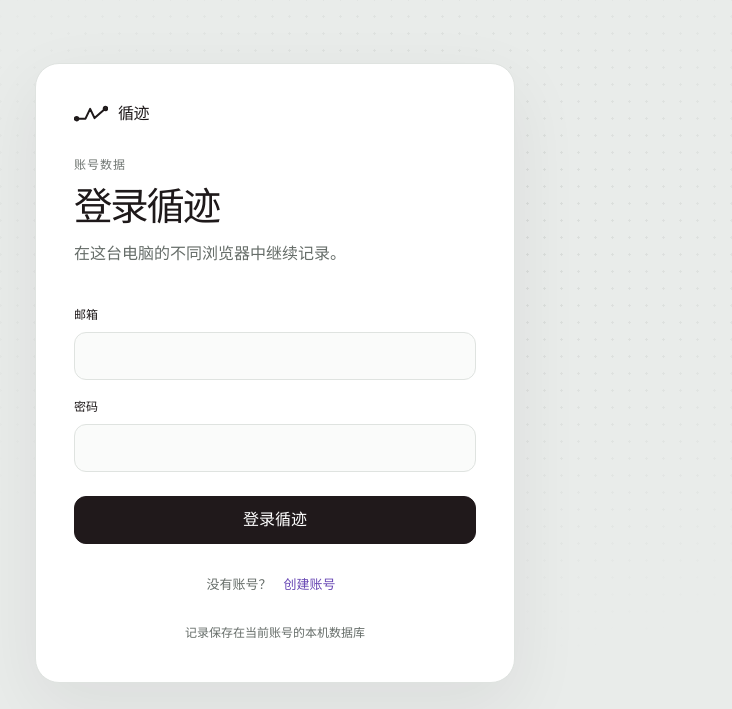
Test: 账号与数据 gate › 提交期间显示具体 busy 文案并阻止重复认证
Type "me@example.com" into the field labelled "邮箱" at (275, 356), box [74,332,476,380]
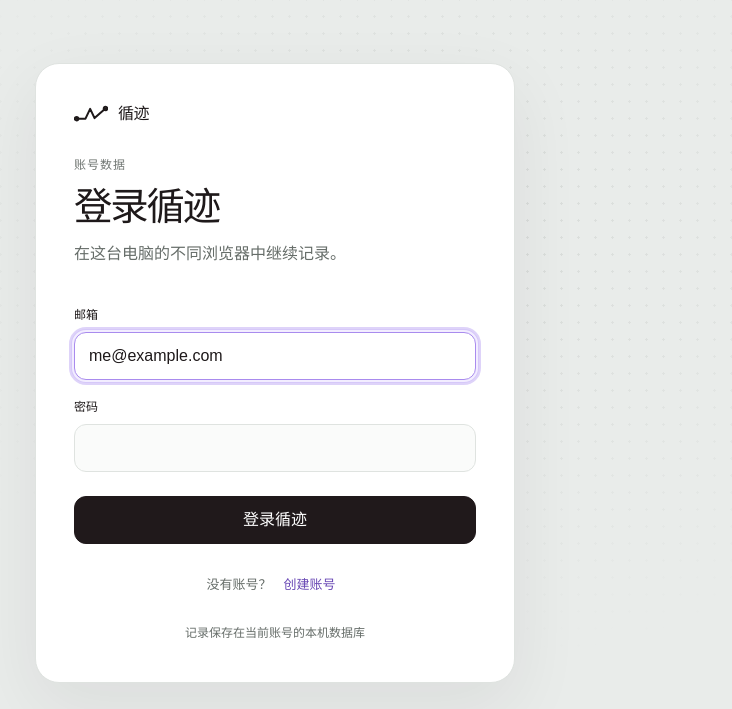
Type "secret-value" into the password field labelled "密码" at (275, 448), box [74,424,476,472]
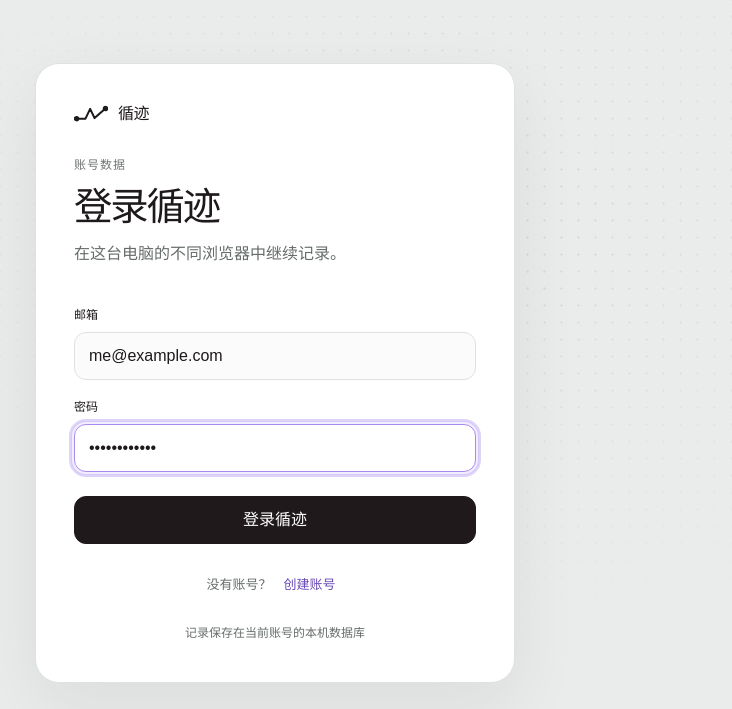
Click the button "登录循迹" at (275, 520), box [74,496,476,544]
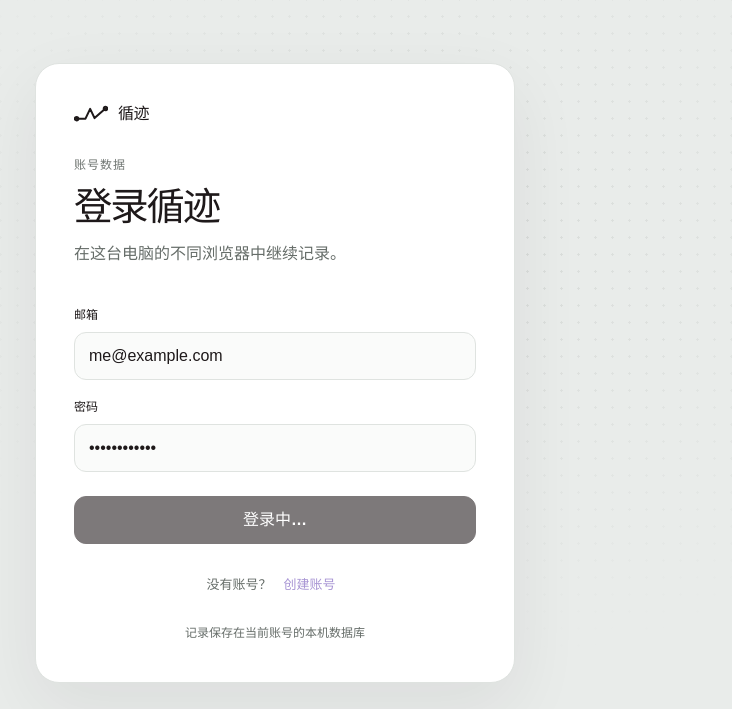
Expected: the button "登录中…" is disabled, [74,496,476,544]
